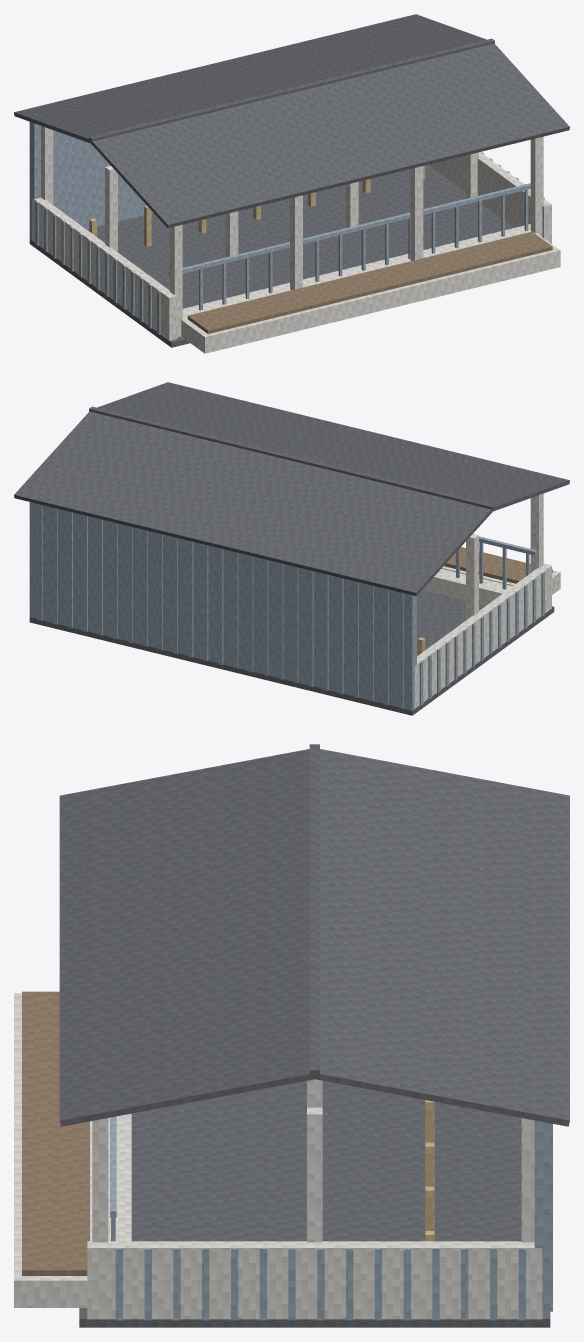
The model's file is pixel-modern-farm-cow-shed-16c0e8d4__29103.glb.
3 renders of one model, top to bottom at view 1: azimuth 30°, elevation 25°; view 2: azimuth 150°, elevation 25°; view 3: azimuth 270°, elevation 25°, orthographic. The views are drawn at different scales.
Visible parts, largest first — view 1: cow-shed; view 2: cow-shed; view 3: cow-shed.
Boxes of the visible parts, <box> form: cow-shed: <box>14,14,569,353</box>; cow-shed: <box>14,382,569,715</box>; cow-shed: <box>14,744,569,1327</box>.
Bounding box in the file's own units: 14.74 × 5.6 × 10.63.
Materials: 5 (5 with a texture image).
